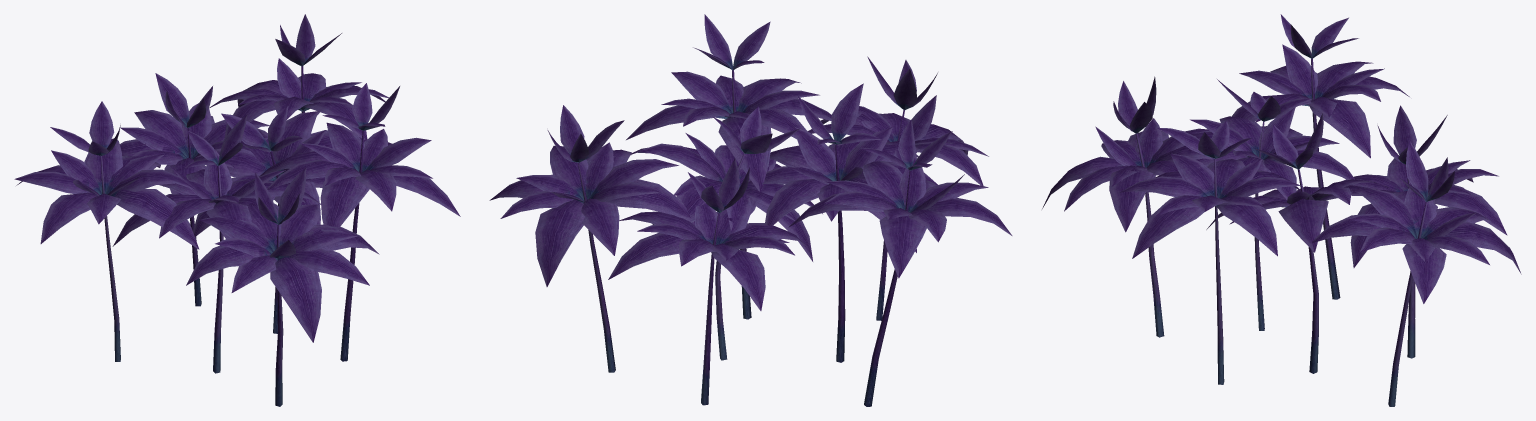
Rendered from bush.glb.
The picture shows the model from 3 angles, left to right: view 1: azimuth 30°, elevation 25°; view 2: azimuth 150°, elevation 25°; view 3: azimuth 270°, elevation 25°; orthographic projection. The views are drawn at different scales.
Parts seen in each view (by area): view 1: Polygon; view 2: Polygon; view 3: Polygon.
Part boxes in pixels (box(x1,y1,x2,y2)): Polygon: box(14, 14, 460, 406); Polygon: box(489, 14, 1012, 406); Polygon: box(1042, 14, 1521, 406).
Bounding box in the file's own units: 0.6155 × 0.3761 × 0.594.
1 material, 1 textured.
